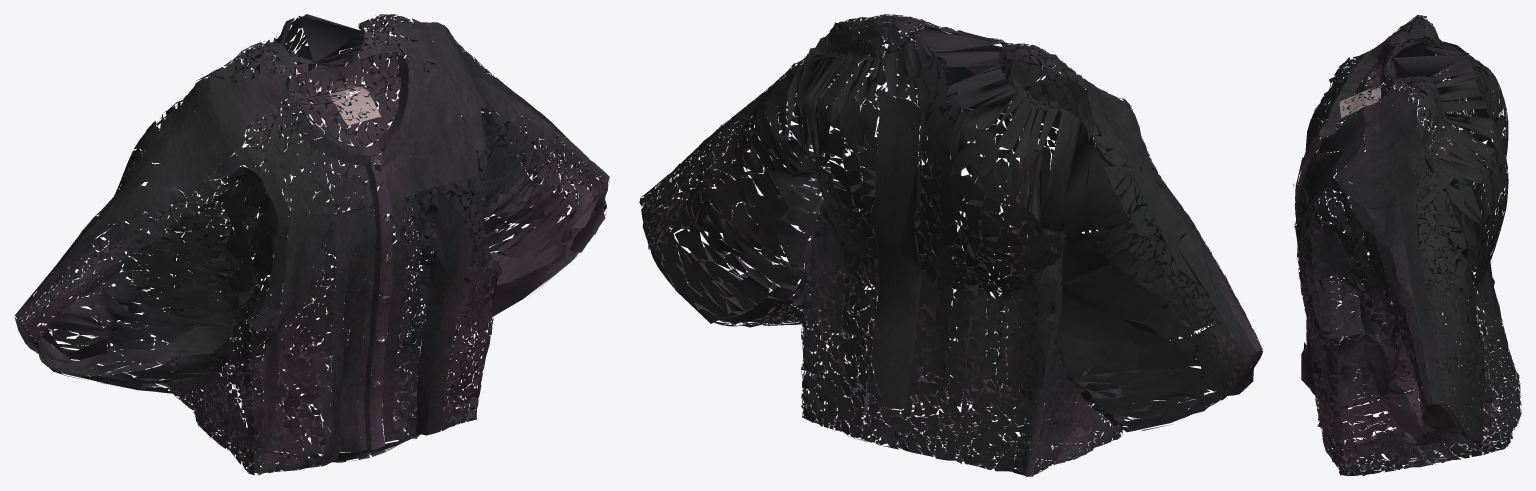
Rendered from cardigan-female.glb.
3 renders of one model, left to right at view 1: azimuth 30°, elevation 25°; view 2: azimuth 150°, elevation 25°; view 3: azimuth 270°, elevation 25°, orthographic. The views are drawn at different scales.
Parts seen in each view (by area): view 1: garment; view 2: garment; view 3: garment.
Boxes of the visible parts, x1,y1,x2,y2 form: garment: (14,14,609,475); garment: (639,14,1263,476); garment: (1293,15,1521,476).
Bounding box in the file's own units: 0.7696 × 0.4957 × 0.2699.
Materials: 1 (1 with a texture image).
